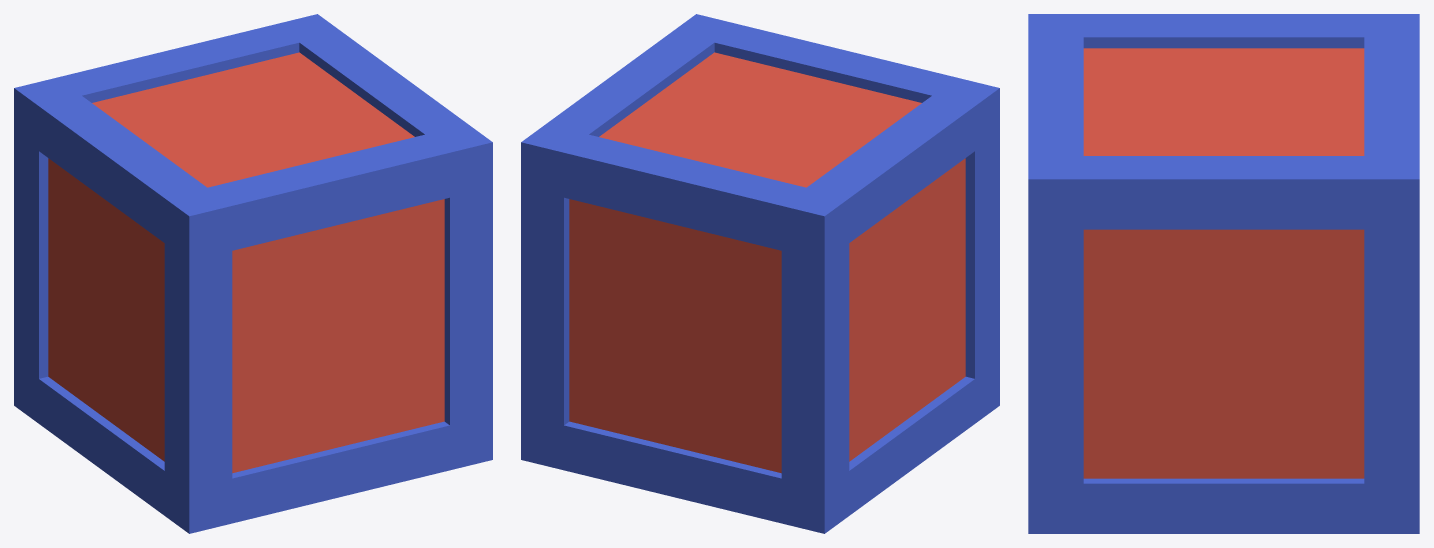
File: Caixa.fbx
3 renders of one model, left to right at view 1: azimuth 30°, elevation 25°; view 2: azimuth 150°, elevation 25°; view 3: azimuth 270°, elevation 25°, orthographic. The views are drawn at different scales.
Visible parts, largest first — view 1: Caixa-col; view 2: Caixa-col; view 3: Caixa-col.
Part boxes in pixels (x1,y1,x2,y2): Caixa-col: (14,14,492,533); Caixa-col: (521,14,999,533); Caixa-col: (1028,14,1419,533).
Size of the model in its own units: 70.13 by 70.13 by 70.13.
